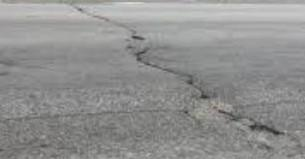crack: (67, 0, 289, 136)
